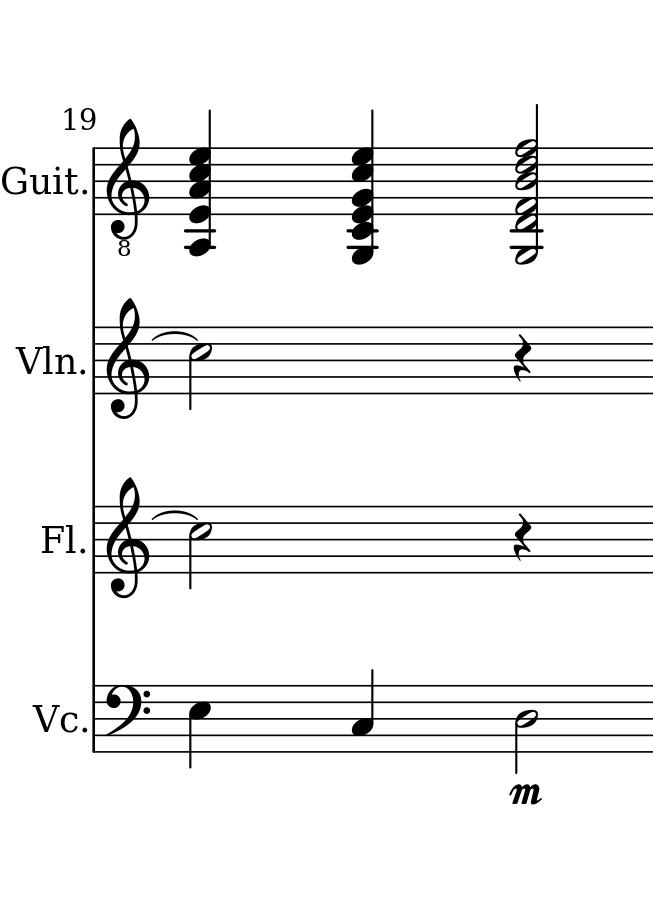1: (62, 103, 78, 132)
2_4: (512, 683, 541, 777)
2_5: (187, 324, 214, 412), (187, 503, 213, 591)
4_3: (350, 666, 376, 755)
4_5: (187, 683, 213, 772)
9: (79, 102, 96, 132)
Fclef: (102, 686, 154, 755)
Fl: (40, 524, 79, 554)
Gclef: (105, 297, 151, 422), (106, 477, 149, 602)
Guit: (1, 164, 81, 199)
Lower_Gclef: (105, 118, 150, 257)
Rests4: (509, 329, 533, 387), (511, 512, 534, 563)
Single_barline: (86, 685, 103, 750), (86, 327, 102, 393), (87, 506, 102, 571), (89, 149, 99, 213)
Slur: (152, 508, 198, 522), (151, 331, 197, 341)
Vc: (30, 701, 81, 736)
Vln: (19, 345, 75, 377)
m: (508, 780, 547, 806)
